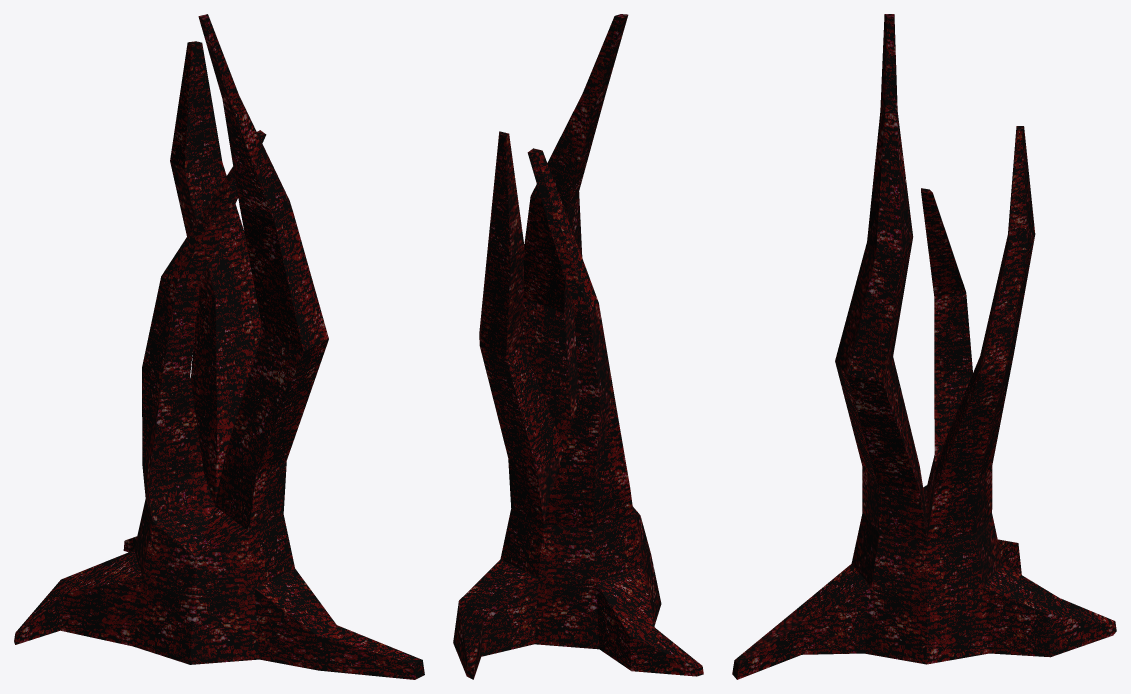
The model's file is rotten_tree.glb.
The picture shows the model from 3 angles, left to right: view 1: azimuth 30°, elevation 25°; view 2: azimuth 150°, elevation 25°; view 3: azimuth 270°, elevation 25°; orthographic projection. The views are drawn at different scales.
Parts seen in each view (by area): view 1: tree; view 2: tree; view 3: tree.
Boxes of the visible parts, x1,y1,x2,y2 form: tree: [14, 14, 424, 679]; tree: [453, 14, 703, 679]; tree: [732, 14, 1116, 679].
Size of the model in its own units: 2.42 by 5.27 by 3.06.
1 material, 1 textured.
